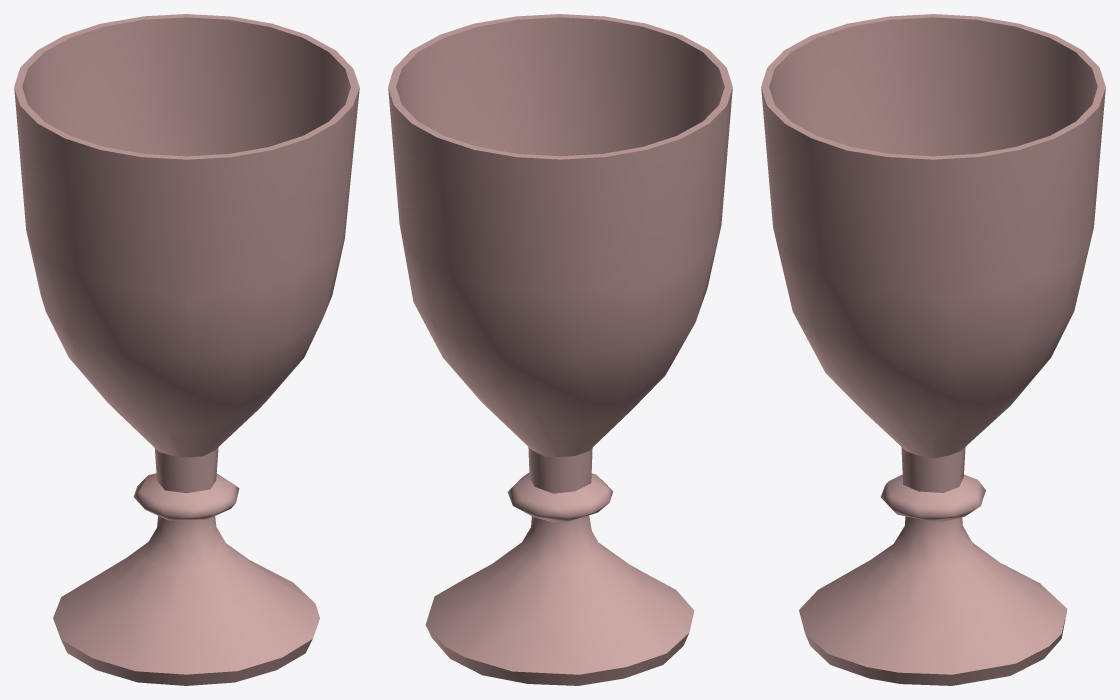
Rendered from SM_Goblet.fbx.
3 views of the same model, side by side, from view 1: azimuth 30°, elevation 25°; view 2: azimuth 150°, elevation 25°; view 3: azimuth 270°, elevation 25° (orthographic).
Parts seen in each view (by area): view 1: SM_Goblet; view 2: SM_Goblet; view 3: SM_Goblet.
Boxes of the visible parts, bbox=[...] form: SM_Goblet: bbox=[14, 14, 359, 685]; SM_Goblet: bbox=[388, 14, 732, 685]; SM_Goblet: bbox=[761, 14, 1105, 685].
Bounding box in the file's own units: 9.9 × 9.9 × 17.28.
